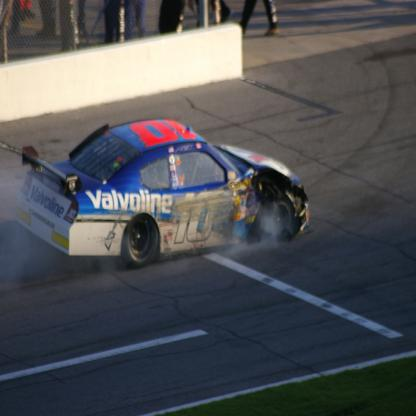Car: (14, 116, 315, 275)
